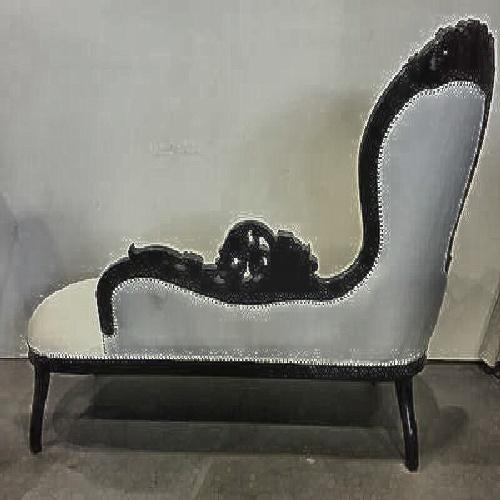sofa: (32, 28, 457, 441)
